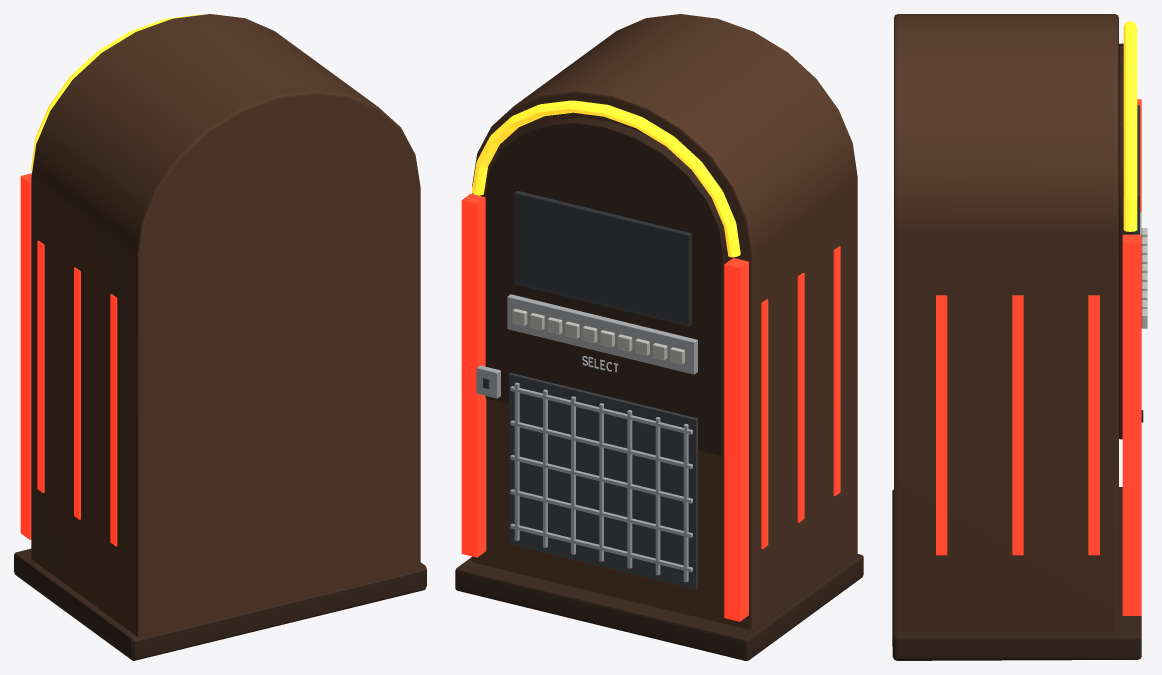
The model's file is prop_sh_jukebox.glb.
3 renders of one model, left to right at view 1: azimuth 30°, elevation 25°; view 2: azimuth 150°, elevation 25°; view 3: azimuth 270°, elevation 25°, orthographic. The views are drawn at different scales.
Visible parts, largest first — view 1: Body, Glow; view 2: Body, Glow; view 3: Body, Glow.
Boxes of the visible parts, <box> form: Body: <box>14,14,426,660</box>; Glow: <box>20,14,202,546</box>; Body: <box>455,14,863,660</box>; Glow: <box>461,100,840,621</box>; Body: <box>892,14,1147,660</box>; Glow: <box>936,21,1141,615</box>.
Size of what is drawn, in the model's own units: 0.94 by 1.6 by 0.669.
